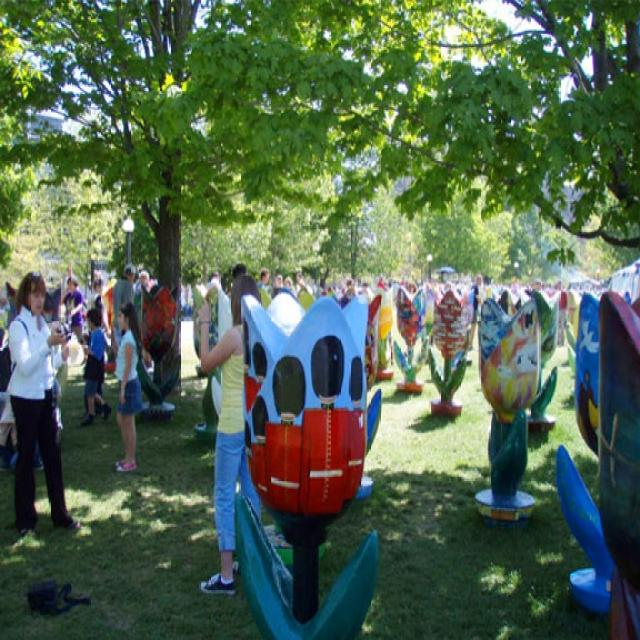body: (4, 267, 82, 543), (197, 273, 263, 596), (179, 258, 372, 323), (109, 296, 145, 476), (77, 305, 113, 430), (1, 269, 23, 471), (376, 268, 472, 304), (482, 272, 556, 306), (112, 263, 141, 349), (61, 274, 89, 346), (102, 266, 158, 302), (87, 278, 112, 339), (466, 272, 484, 352), (568, 273, 614, 299), (554, 277, 568, 348), (41, 270, 60, 305)
